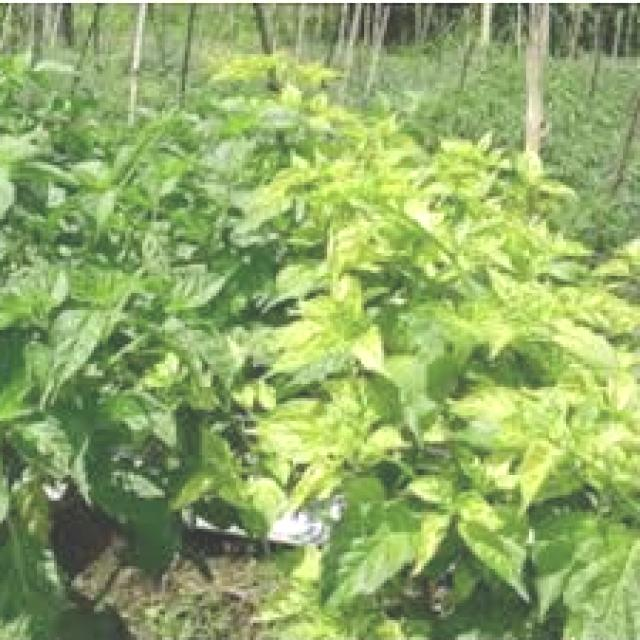leaf curl: (322, 199, 640, 583)
